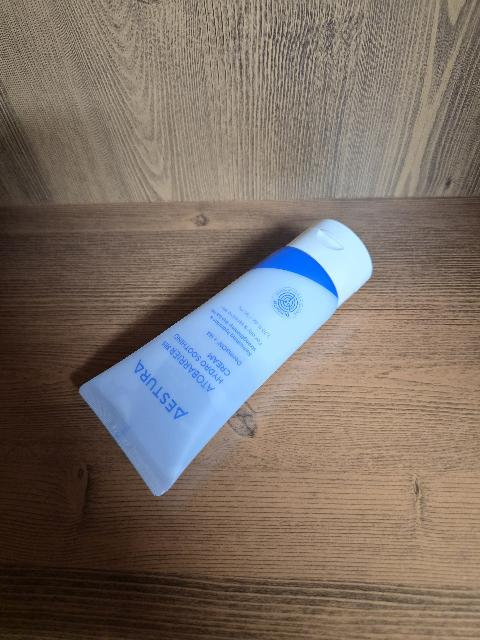handcream: (79, 219, 372, 496)
